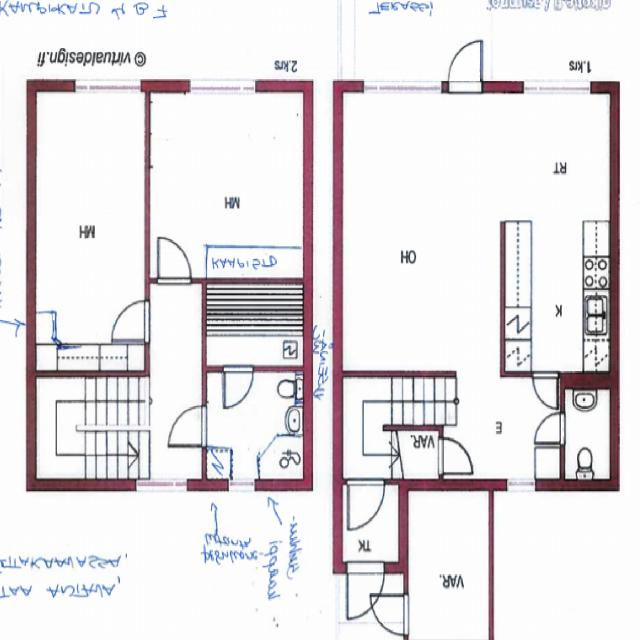door: (348, 562, 383, 618), (348, 479, 384, 529), (449, 41, 481, 93), (371, 595, 409, 634), (113, 302, 150, 341), (170, 406, 207, 445), (158, 238, 190, 283), (438, 438, 472, 473), (224, 365, 253, 406), (533, 372, 558, 408), (536, 412, 564, 442)
